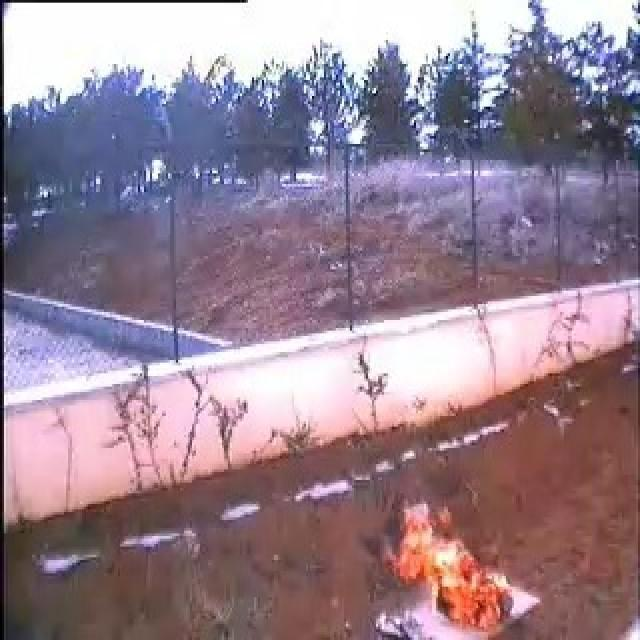Fire: (398, 504, 522, 626)
